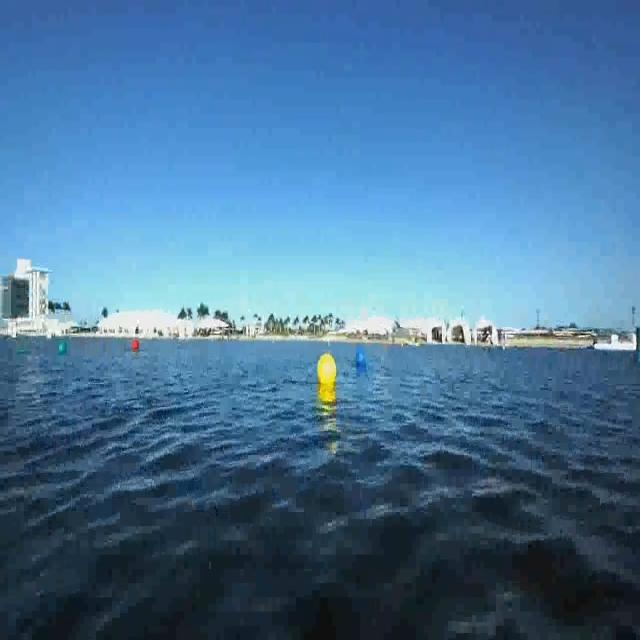blue-buoy: (354, 346, 367, 370)
green-buoy: (58, 339, 68, 358)
red-buoy: (130, 335, 140, 353)
yellow-buoy: (319, 351, 339, 386)
